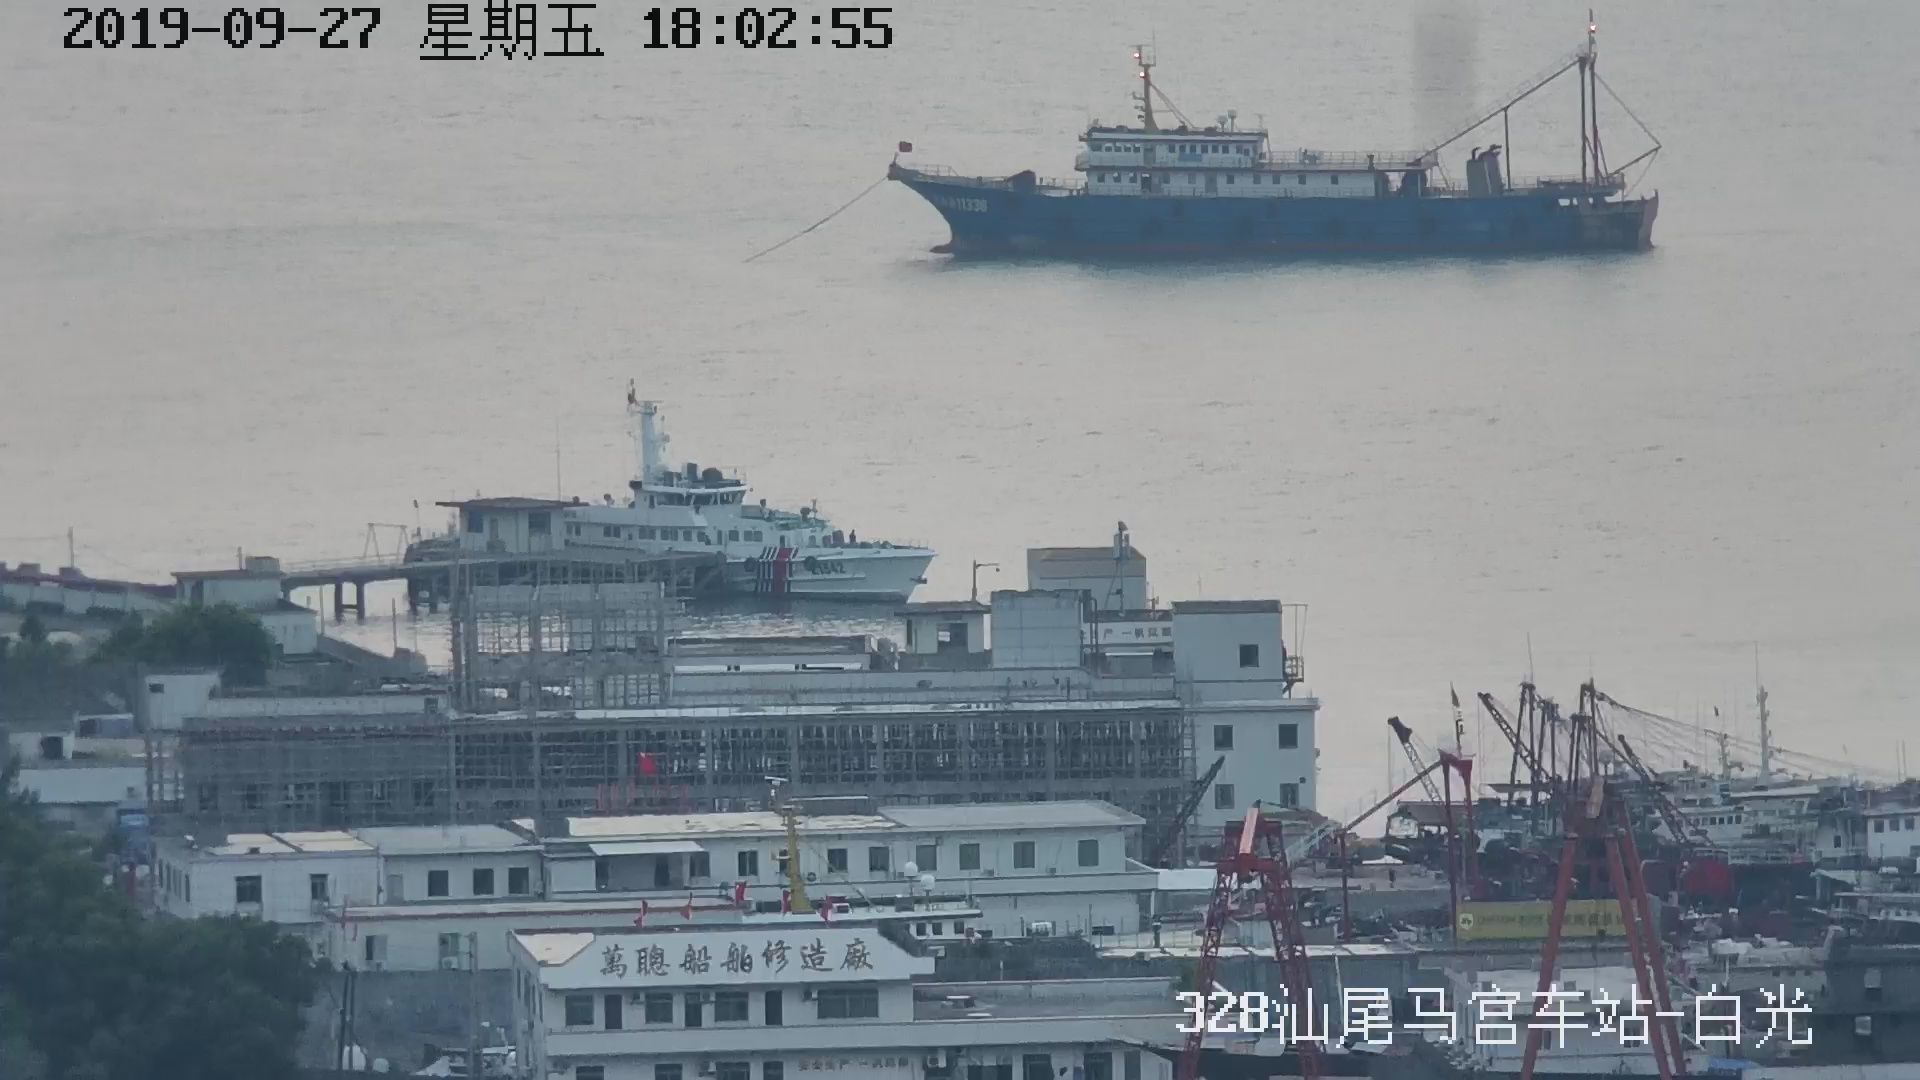ship: (887, 7, 1675, 274)
